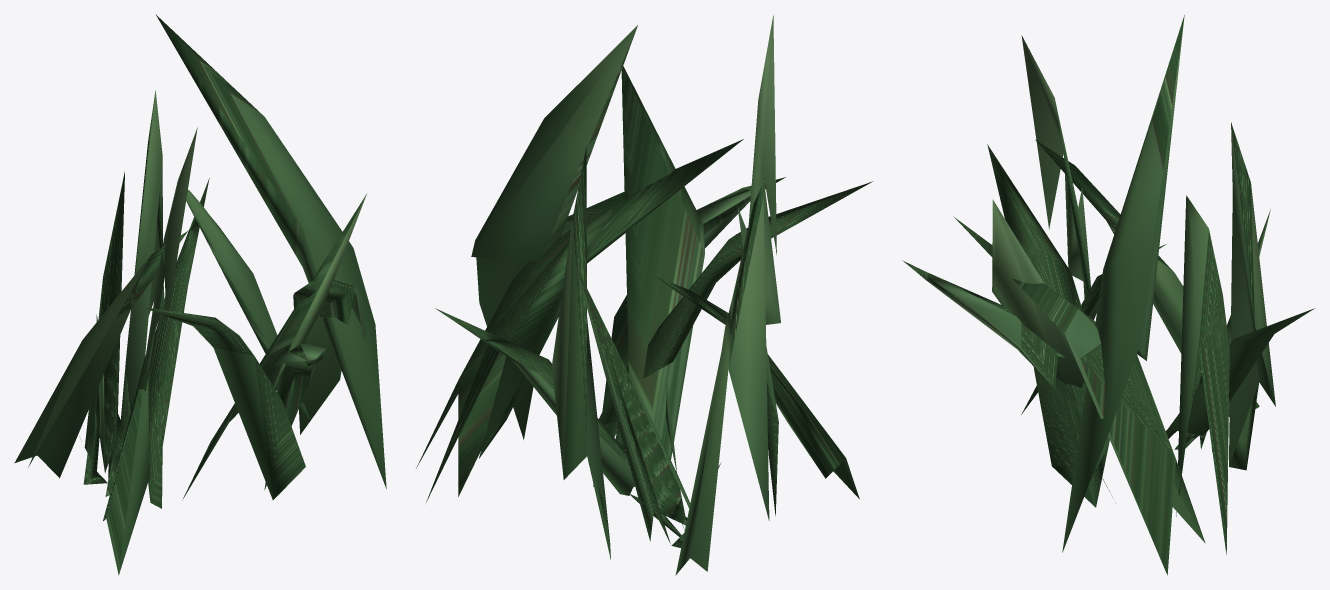
File: grass.glb
The picture shows the model from 3 angles, left to right: view 1: azimuth 30°, elevation 25°; view 2: azimuth 150°, elevation 25°; view 3: azimuth 270°, elevation 25°; orthographic projection. The views are drawn at different scales.
Visible parts, largest first — view 1: Mesh_0; view 2: Mesh_0; view 3: Mesh_0.
Part boxes in pixels (x1,y1,x2,y2): Mesh_0: [14, 14, 386, 575]; Mesh_0: [416, 15, 873, 575]; Mesh_0: [902, 15, 1314, 575].
Bounding box in the file's own units: 0.3247 × 0.4306 × 0.3514.
Materials: 1 (1 with a texture image).
